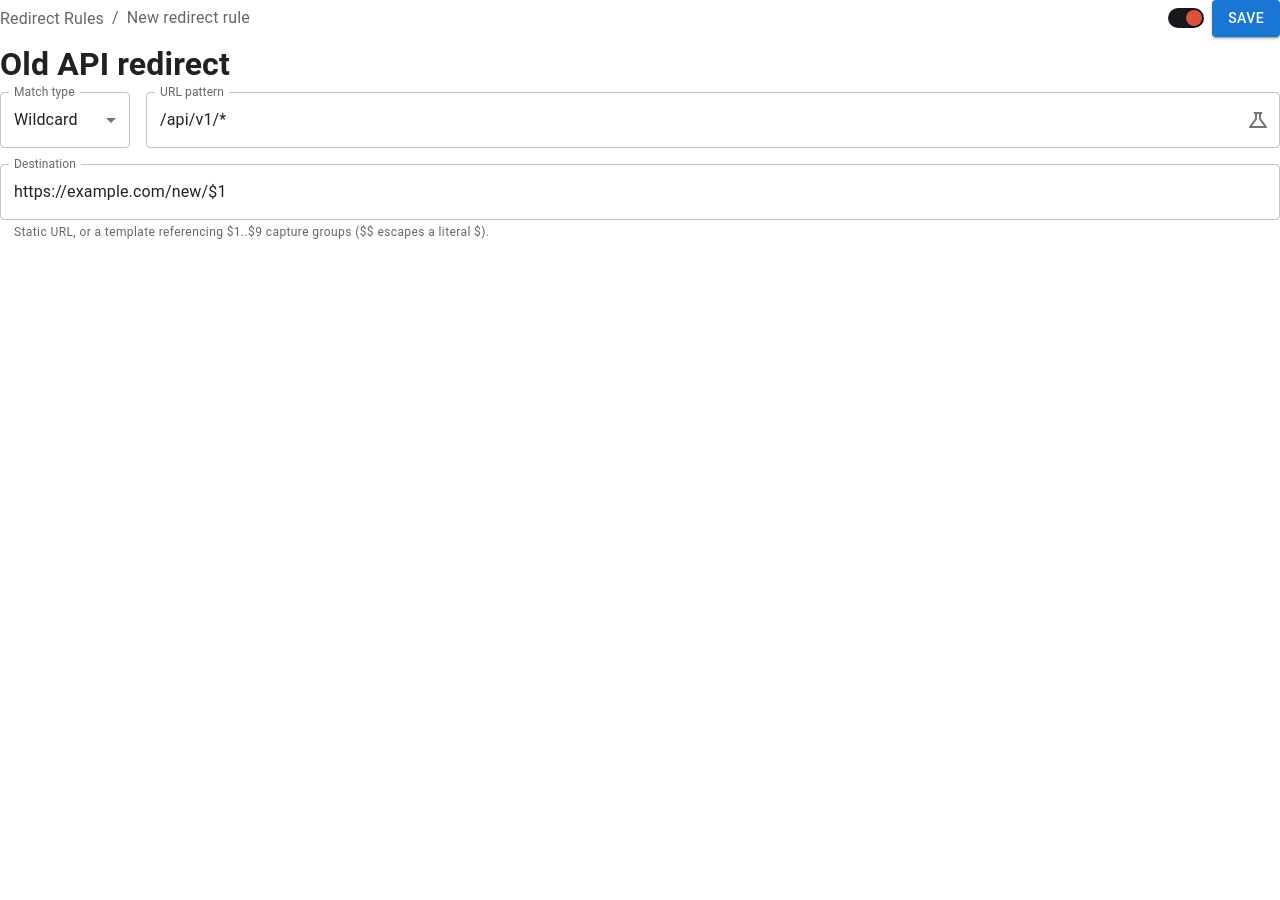
Test: RedirectRuleForm › opens the PatternTester dialog when the "Test pattern" button is clicked
Click the button named "Test pattern". click: (1258,120)
box: [1238,100,1278,140]
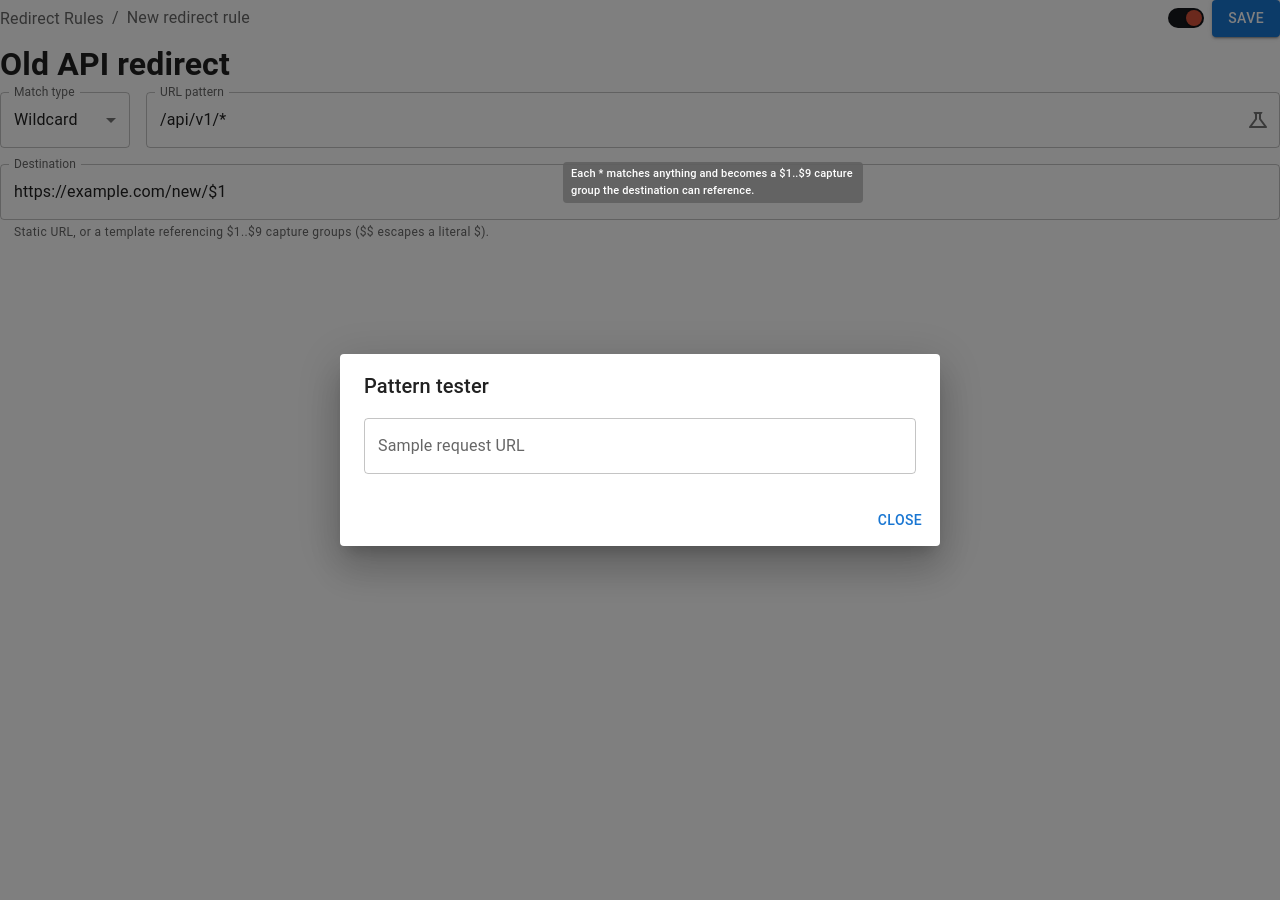
Check: the field labelled "Sample request URL" is shown, box [364,418,916,474]
